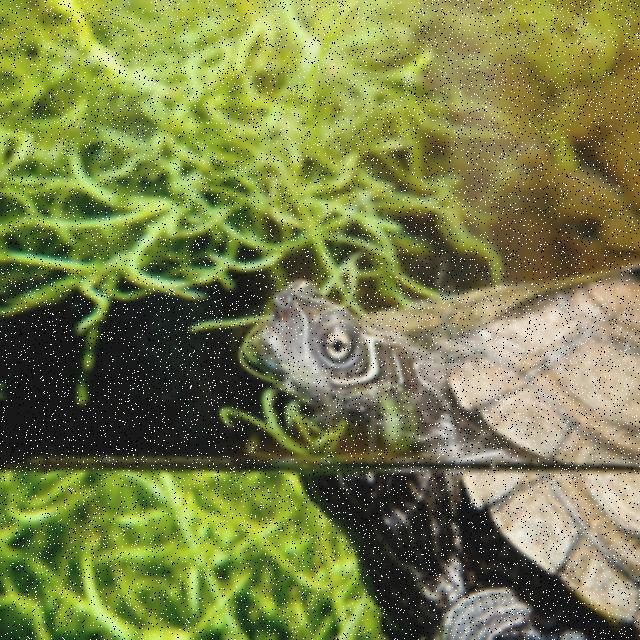tortoise: (215, 270, 640, 627)
